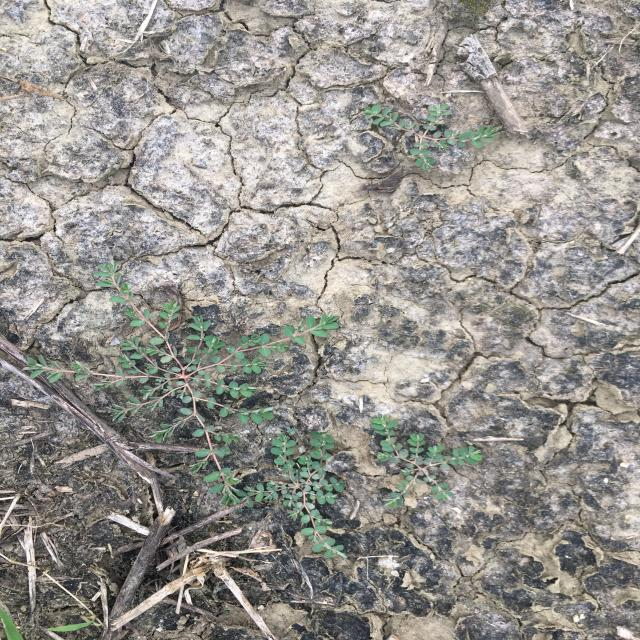SpottedSpurge: (21, 262, 341, 509), (236, 430, 350, 560), (368, 413, 484, 509), (361, 102, 502, 171)
